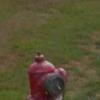Hydrant: (20, 43, 72, 100)
